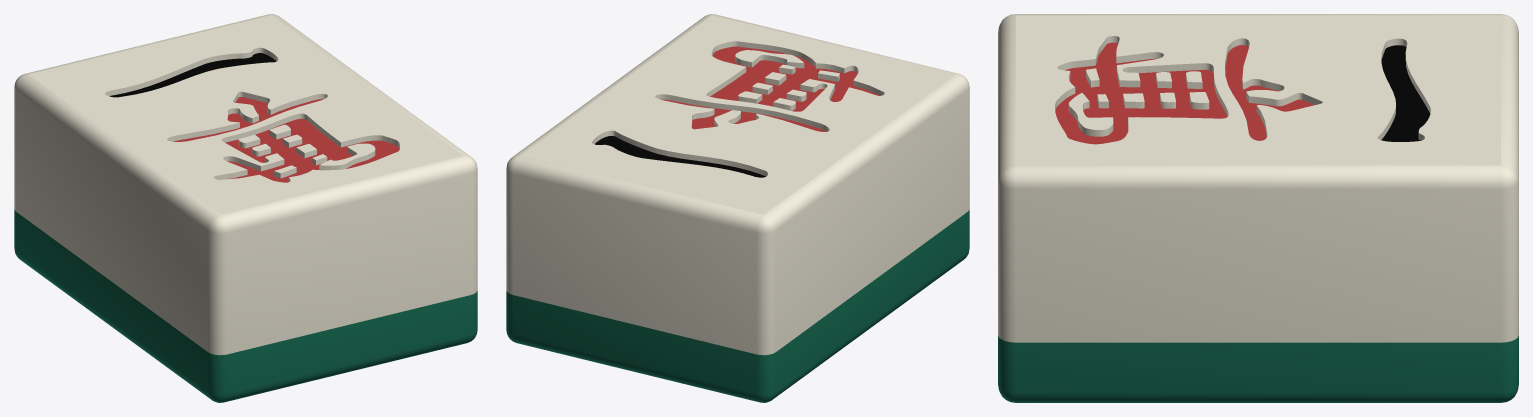
The model's file is Man1.glb.
3 renders of one model, left to right at view 1: azimuth 30°, elevation 25°; view 2: azimuth 150°, elevation 25°; view 3: azimuth 270°, elevation 25°, orthographic. The views are drawn at different scales.
Visible parts, largest first — view 1: Man1_body, Man1_inset; view 2: Man1_body, Man1_inset; view 3: Man1_body, Man1_inset.
Boxes of the visible parts, x1=… form: Man1_body: x1=14, y1=14, x2=477, y2=402; Man1_inset: x1=109, y1=53, x2=399, y2=182; Man1_body: x1=506, y1=14, x2=969, y2=402; Man1_inset: x1=595, y1=46, x2=879, y2=177; Man1_body: x1=998, y1=14, x2=1518, y2=402; Man1_inset: x1=1055, y1=42, x2=1430, y2=144.
Bounding box in the file's own units: 0.024 × 0.016 × 0.032.
